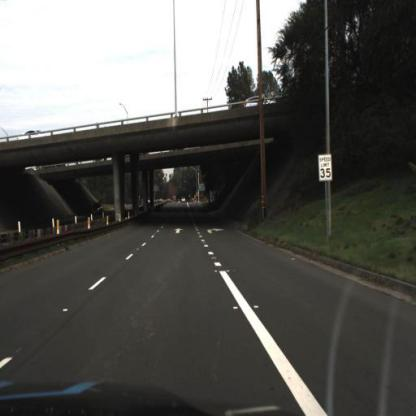car: (15, 128, 58, 146), (90, 200, 106, 220), (91, 198, 105, 216)
